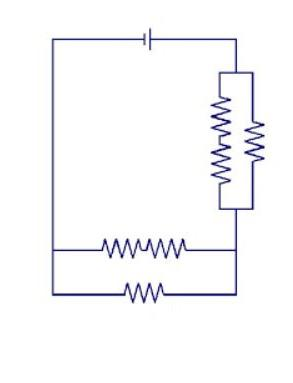resistor: (113, 265, 179, 305), (242, 105, 268, 165)
